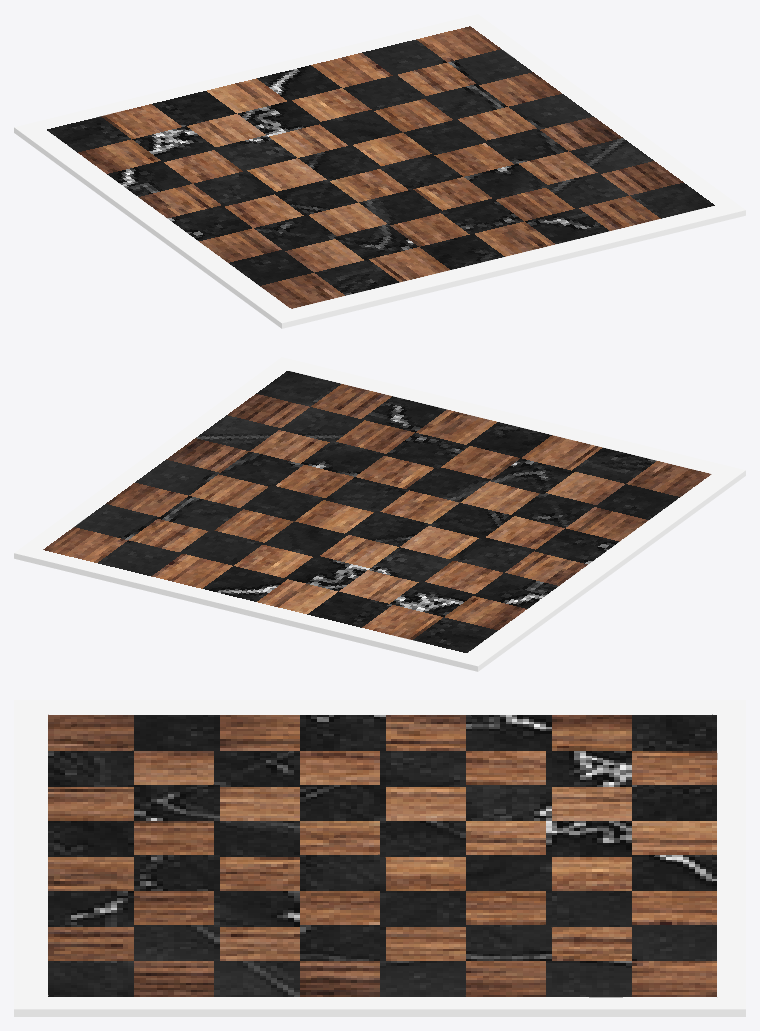
File: board.glb
3 views of the same model, one above another, from view 1: azimuth 30°, elevation 25°; view 2: azimuth 150°, elevation 25°; view 3: azimuth 270°, elevation 25° (orthographic). The views are drawn at different scales.
Parts seen in each view (by area): view 1: Board; view 2: Board; view 3: Board.
Boxes of the visible parts, x1,y1,x2,y2 form: Board: (14, 14, 745, 328); Board: (14, 357, 745, 671); Board: (14, 700, 745, 1016).
Bounding box in the file's own units: 17.6 × 0.2 × 17.6.
1 material, 1 textured.
